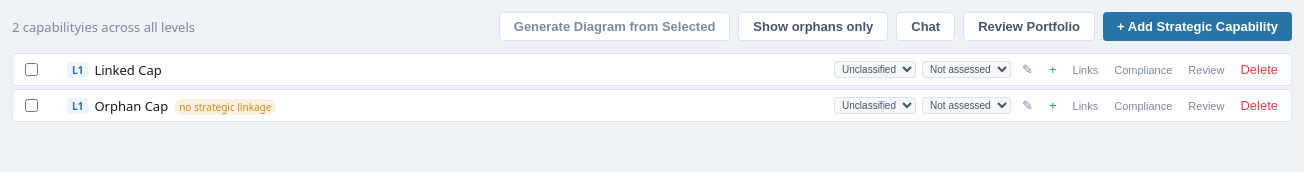
Test: CapabilityTree: orphan badge and filter (918-strategy-rollups) › toggling 'Show orphans only' narrows the tree to just orphaned capabilities
The width and height of the screenshot is (1304, 172).
Expected: the text "Linked Cap" is shown, [94, 60, 162, 78]
Expected: the text "Orphan Cap" is shown, [94, 96, 168, 114]
Click the button "Show orphans only": (813, 26) [738, 12, 888, 41]
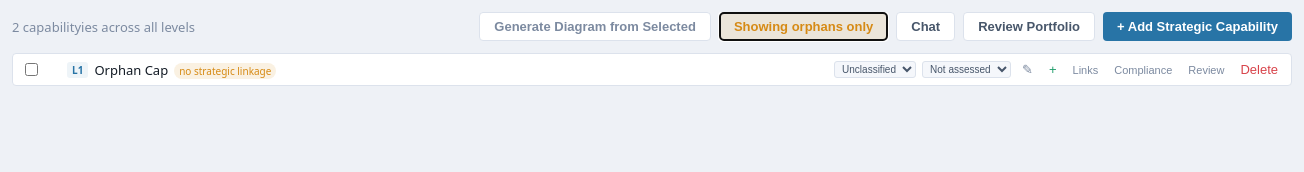
Expected: the text "Orphan Cap" is shown, [94, 60, 168, 78]
Expected: the text "Linked Cap" is gone
